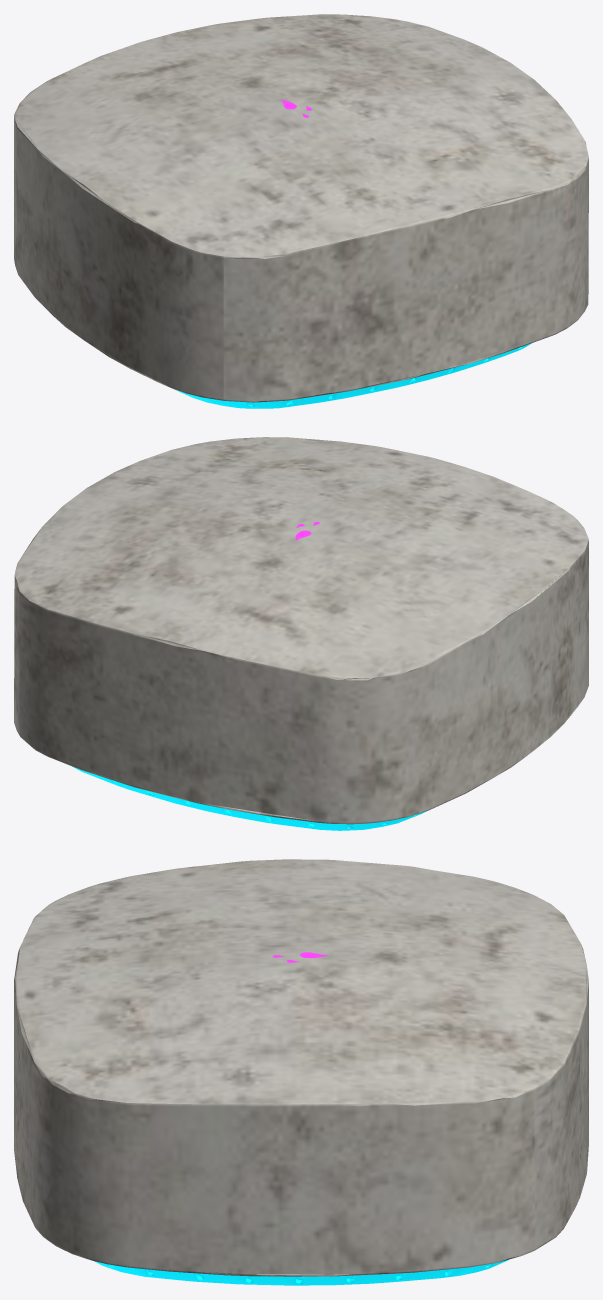
File: craft_r23_warmth_eye.glb
3 renders of one model, top to bottom at view 1: azimuth 30°, elevation 25°; view 2: azimuth 150°, elevation 25°; view 3: azimuth 270°, elevation 25°, orthographic. The views are drawn at different scales.
Visible parts, largest first — view 1: craft_r23_warmth_eye; view 2: craft_r23_warmth_eye; view 3: craft_r23_warmth_eye.
Part boxes in pixels (<box>): craft_r23_warmth_eye: <box>14,14,588,408</box>; craft_r23_warmth_eye: <box>14,437,588,830</box>; craft_r23_warmth_eye: <box>14,859,588,1285</box>.
Bounding box in the file's own units: 0.112 × 0.0473 × 0.1107.
Materials: 3 (1 with a texture image).
